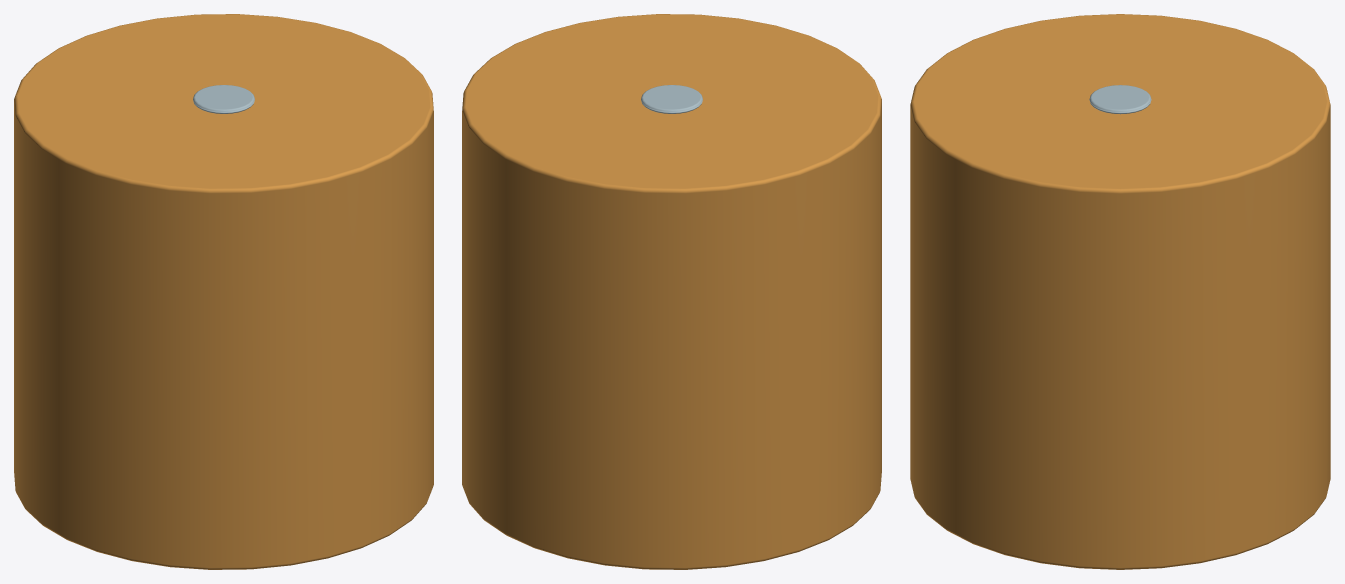
File: prop_bumper.glb
The picture shows the model from 3 angles, left to right: view 1: azimuth 30°, elevation 25°; view 2: azimuth 150°, elevation 25°; view 3: azimuth 270°, elevation 25°; orthographic projection.
Parts seen in each view (by area): view 1: Elastic bumper body, Central fixing bolt; view 2: Elastic bumper body, Central fixing bolt; view 3: Elastic bumper body, Central fixing bolt.
Part boxes in pixels (x1,y1,x2,y2): Elastic bumper body: (14, 14, 433, 569); Central fixing bolt: (193, 85, 254, 113); Elastic bumper body: (462, 14, 881, 569); Central fixing bolt: (641, 85, 702, 113); Elastic bumper body: (910, 14, 1330, 569); Central fixing bolt: (1089, 85, 1151, 114).
Size of the model in its own units: 0.02 by 0.0202 by 0.02.
